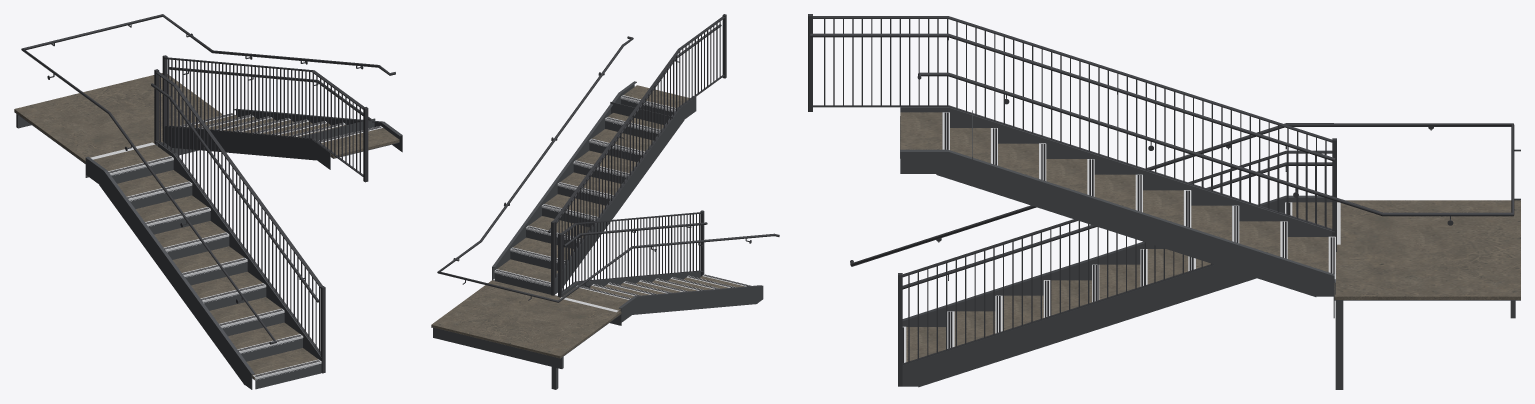
The model's file is hotel-stair.glb.
3 views of the same model, side by side, from view 1: azimuth 30°, elevation 25°; view 2: azimuth 150°, elevation 25°; view 3: azimuth 270°, elevation 25° (orthographic). The views are drawn at different scales.
Parts seen in each view (by area): view 1: stair_rail, stair_concrete, stair_steel, stair_nosing, stair_grit; view 2: stair_rail, stair_concrete, stair_steel, stair_nosing, stair_grit; view 3: stair_concrete, stair_steel, stair_rail, stair_nosing, stair_grit.
Boxes of the visible parts, x1,y1,x2,y2 form: stair_rail: (21,14,395,373); stair_concrete: (14,73,399,379); stair_steel: (14,108,402,389); stair_nosing: (90,113,382,379); stair_grit: (109,113,380,376); stair_rail: (437,14,779,302); stair_concrete: (431,85,744,358); stair_steel: (431,81,763,389); stair_nosing: (494,95,751,312); stair_grit: (496,96,750,299); stair_concrete: (900,112,1520,361); stair_steel: (900,107,1520,389); stair_rail: (808,14,1520,386); stair_nosing: (903,112,1340,362); stair_grit: (902,112,1334,363).
Size of the model in its own units: 2.36 by 4.31 by 7.39.
5 materials, 1 textured.
